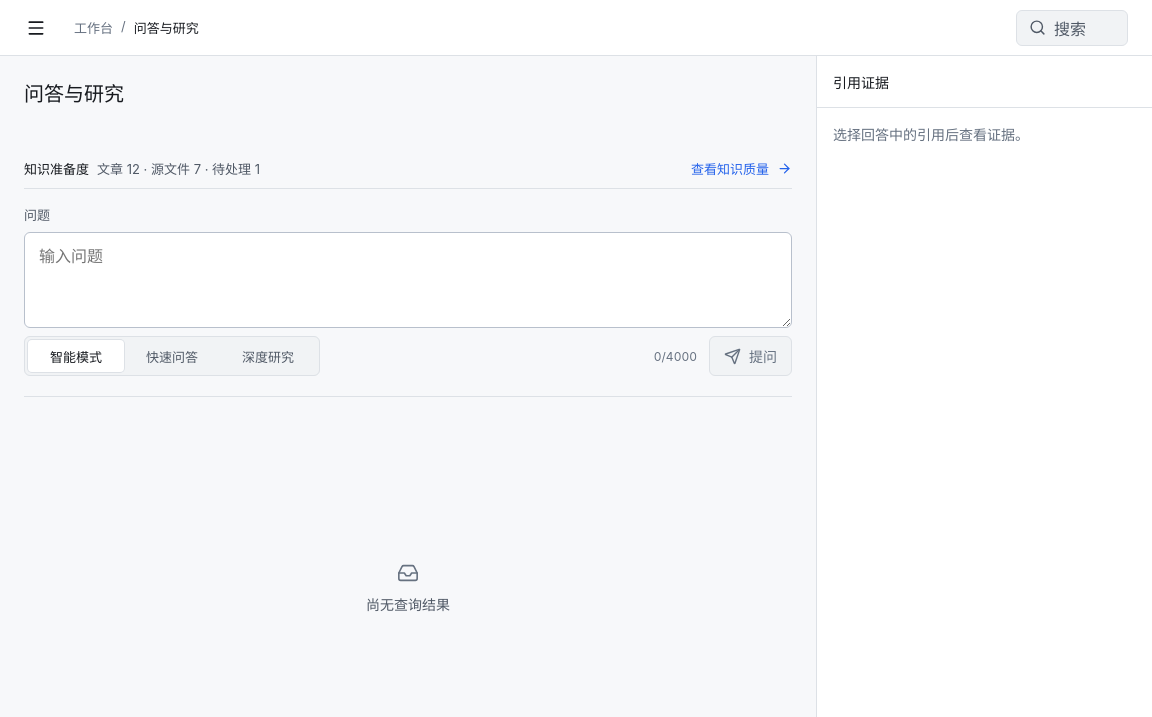
App › opens the page palette and navigates by keyboard command
Expected: the heading "问答与研究" is shown, [24,80,124,108]
Type keys "{Control>}k{/Control}"
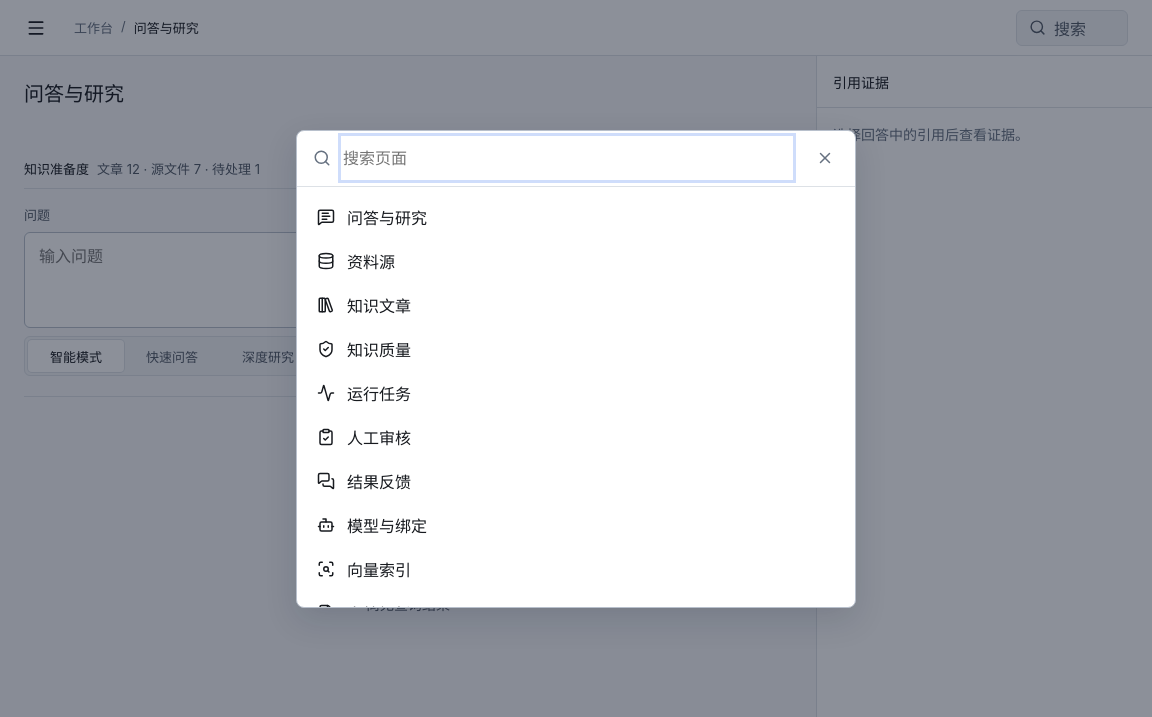
Type "向量" into the field labelled "搜索页面".
click(567, 158); type("向量")  # box [341,136,793,180]
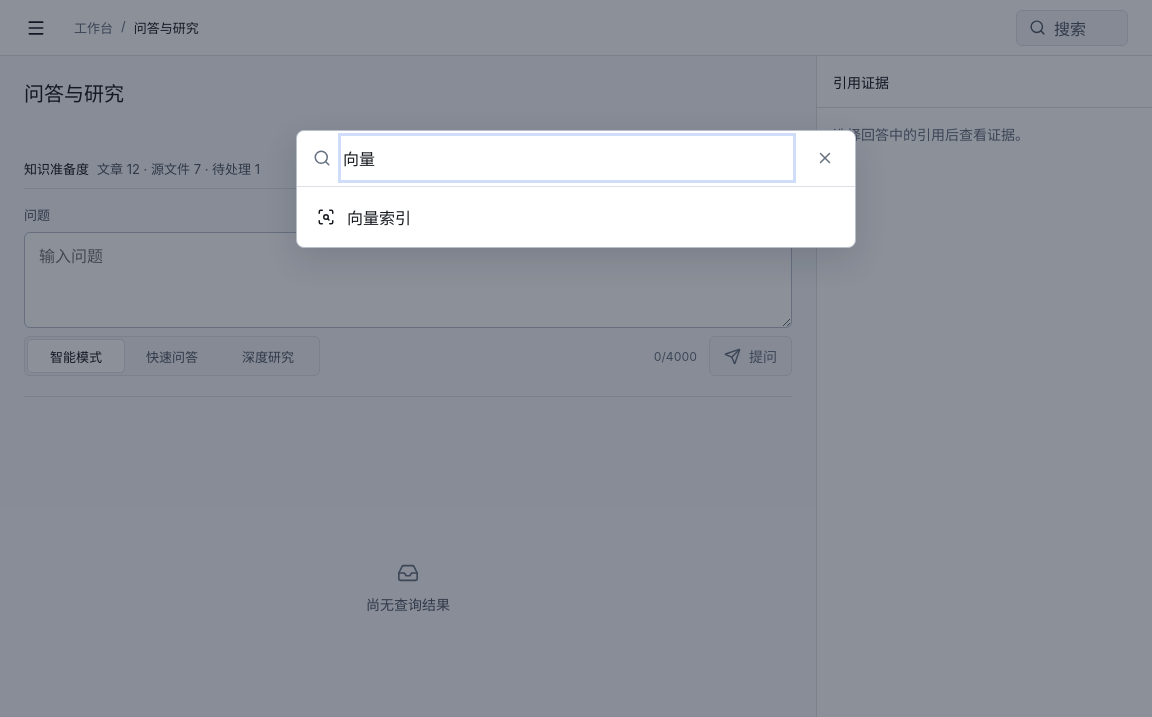
Click the button "向量索引".
click(379, 218)  # box [305,195,847,239]
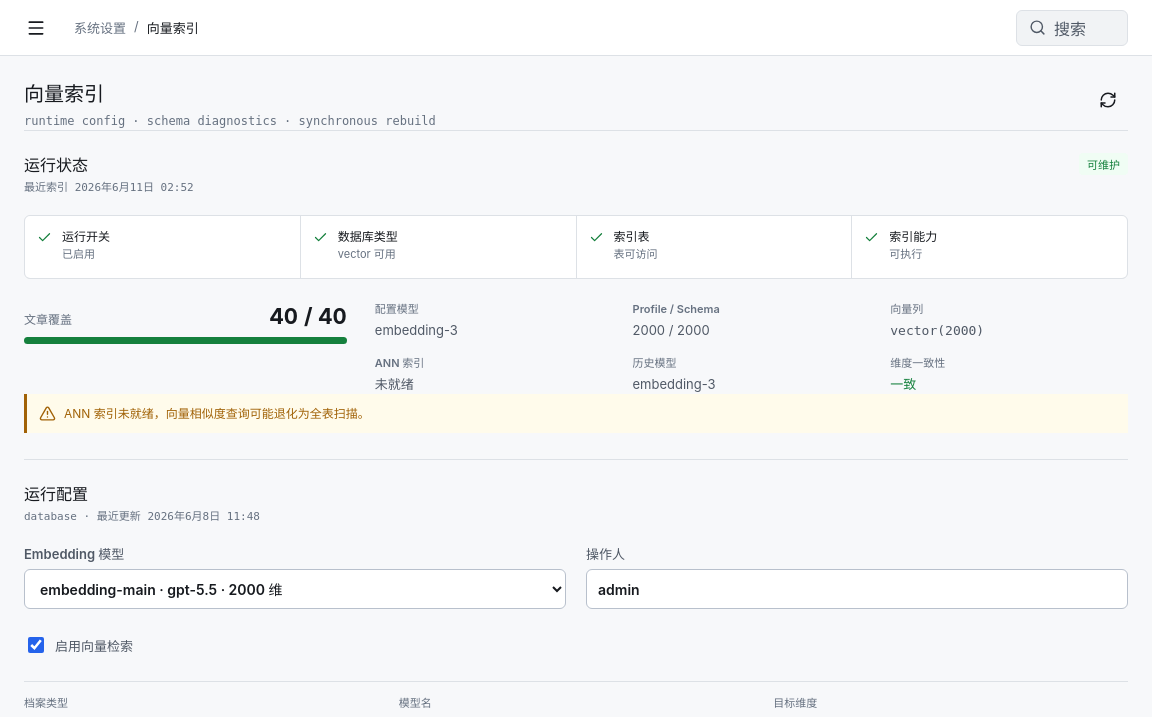
Result: the heading "向量索引" is shown at [24,82,104,106]
